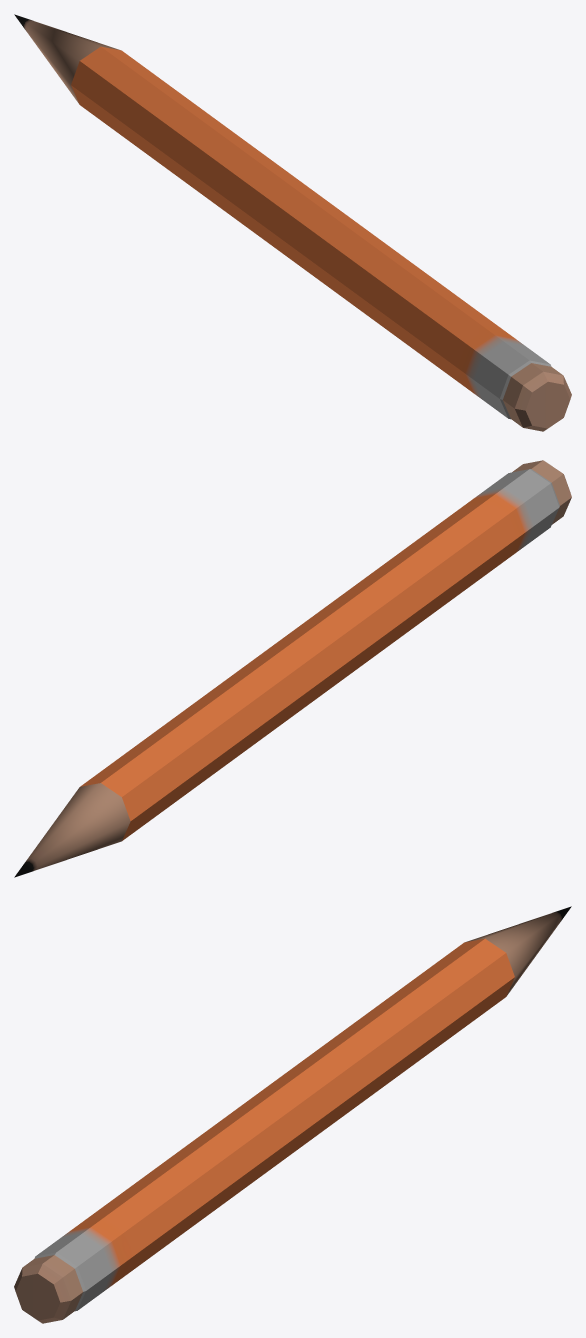
File: Pencil_Obsticle.fbx
The picture shows the model from 3 angles, top to bottom: view 1: azimuth 30°, elevation 25°; view 2: azimuth 150°, elevation 25°; view 3: azimuth 330°, elevation 25°; orthographic projection.
Visible parts, largest first — view 1: pCylinder1; view 2: pCylinder1; view 3: pCylinder1.
Boxes of the visible parts, <box> form: pCylinder1: <box>14,14,571,431</box>; pCylinder1: <box>14,460,571,877</box>; pCylinder1: <box>14,906,571,1323</box>.
Size of the model in its own units: 1.25 by 1.25 by 19.32.
1 material, 1 textured.
